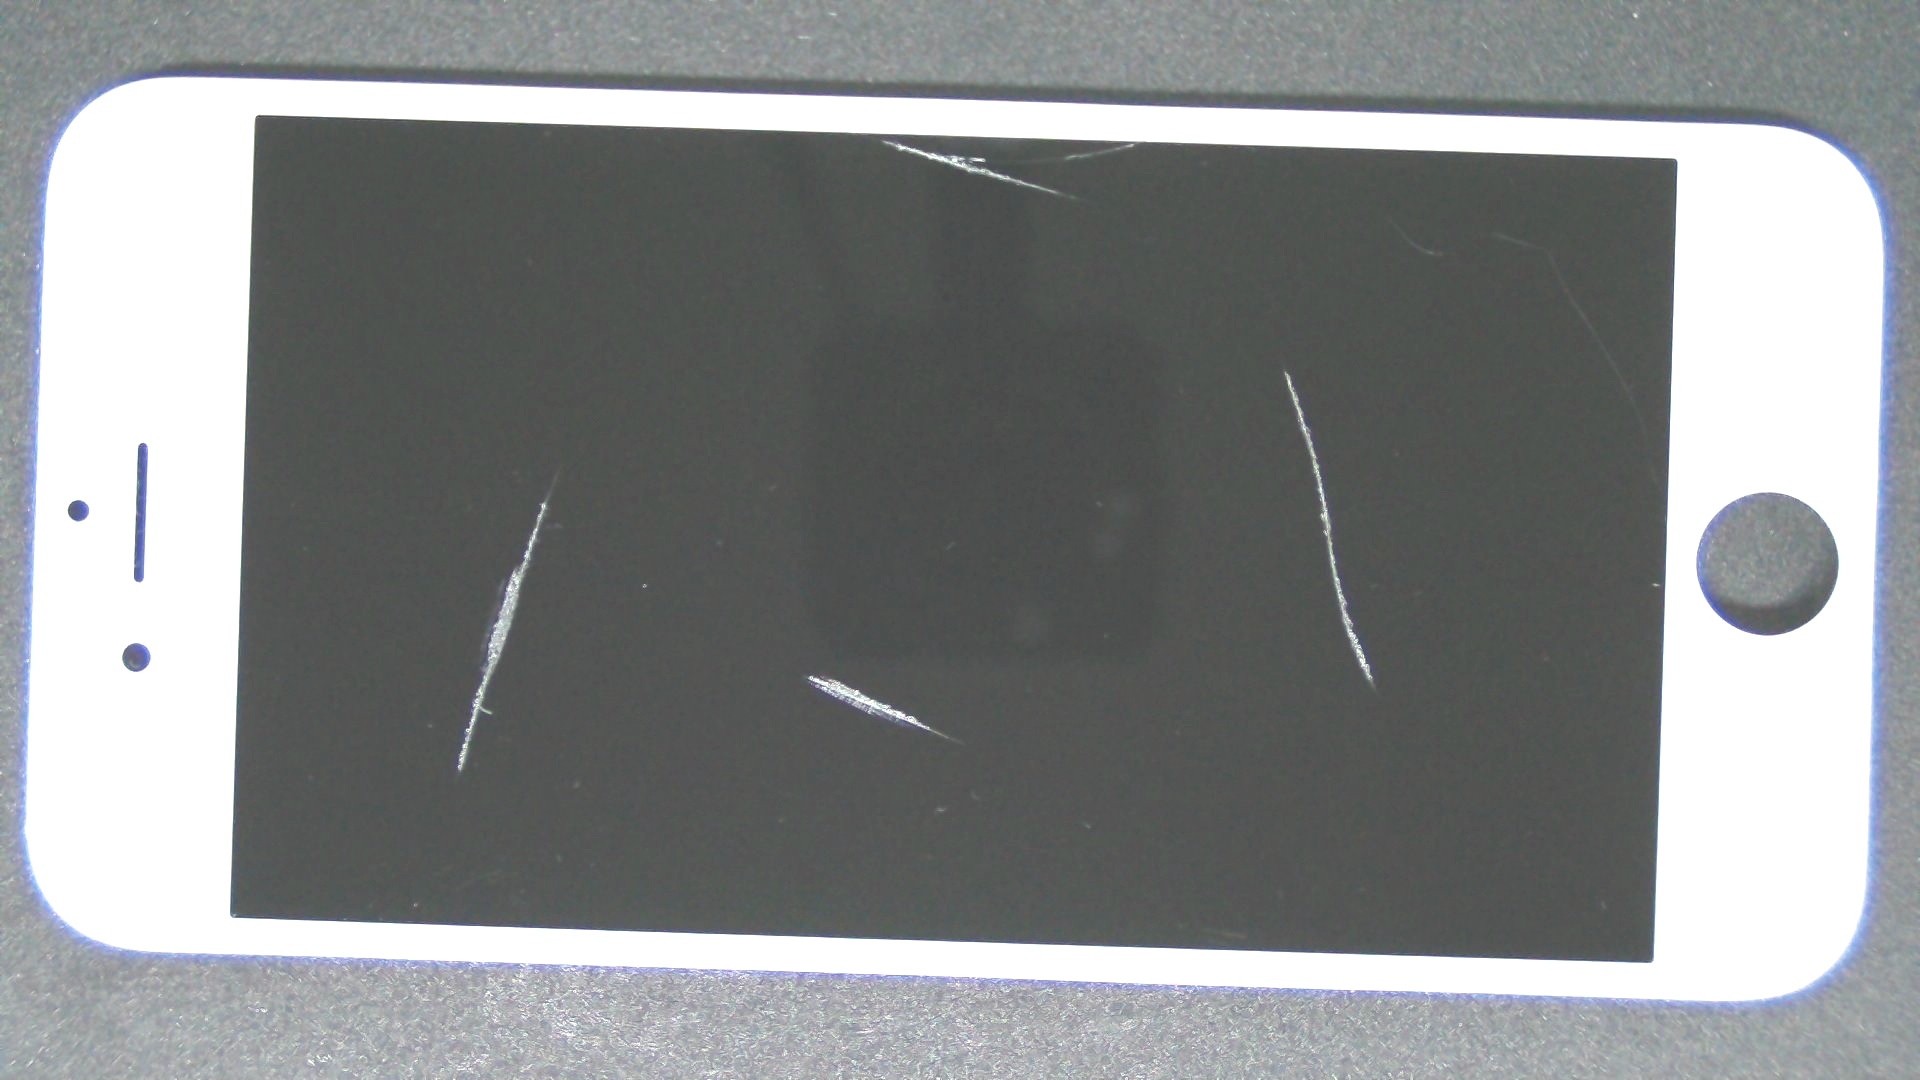oil: (406, 336, 1216, 1011), (642, 185, 1920, 555), (273, 251, 815, 752), (439, 69, 1317, 208)
